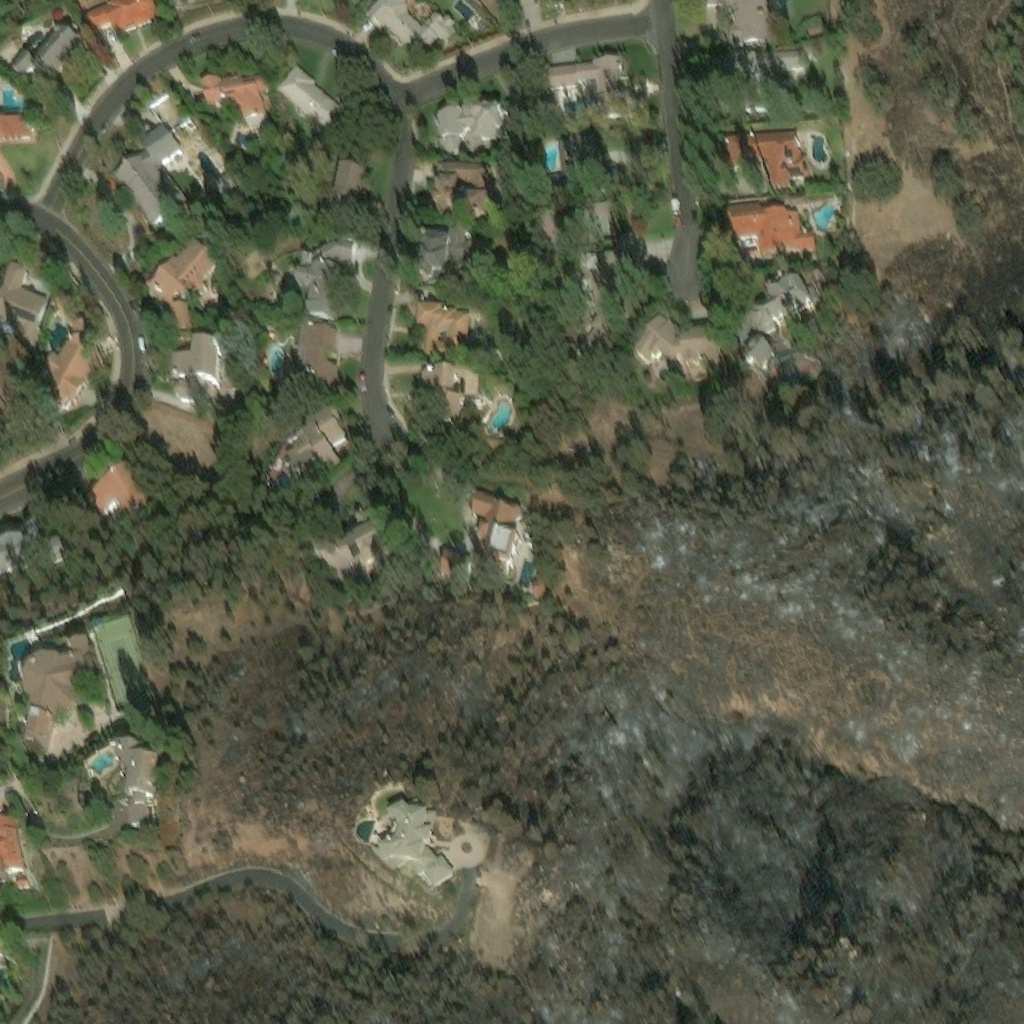0 no-damage: (20, 630, 98, 740), (109, 115, 188, 221), (290, 495, 392, 571), (377, 793, 454, 886), (144, 230, 219, 322), (568, 248, 623, 358), (721, 124, 808, 184), (734, 269, 819, 327), (468, 489, 525, 575), (280, 395, 342, 474), (543, 50, 630, 105), (631, 307, 716, 363), (725, 199, 815, 251), (0, 260, 50, 353), (547, 132, 622, 190), (275, 56, 344, 119), (110, 732, 157, 823), (70, 454, 149, 508), (721, 39, 800, 92), (362, 0, 455, 45), (12, 23, 85, 76), (293, 244, 345, 313), (412, 296, 470, 356), (412, 223, 472, 280), (433, 99, 502, 148), (0, 508, 69, 557), (288, 316, 338, 382), (39, 335, 92, 397), (198, 62, 267, 109), (410, 362, 464, 421), (428, 170, 490, 212), (83, 0, 160, 31), (165, 328, 213, 370), (0, 366, 32, 429), (327, 155, 364, 208), (726, 0, 773, 41), (435, 157, 491, 191), (0, 807, 27, 873), (315, 229, 355, 257), (430, 538, 462, 571), (739, 327, 770, 357), (259, 438, 284, 474), (205, 158, 235, 186), (0, 113, 31, 136), (68, 315, 85, 345), (38, 72, 57, 92), (422, 324, 438, 337), (14, 873, 27, 885), (529, 576, 541, 589), (53, 294, 65, 307)
4 un-classified: (505, 101, 527, 129)
